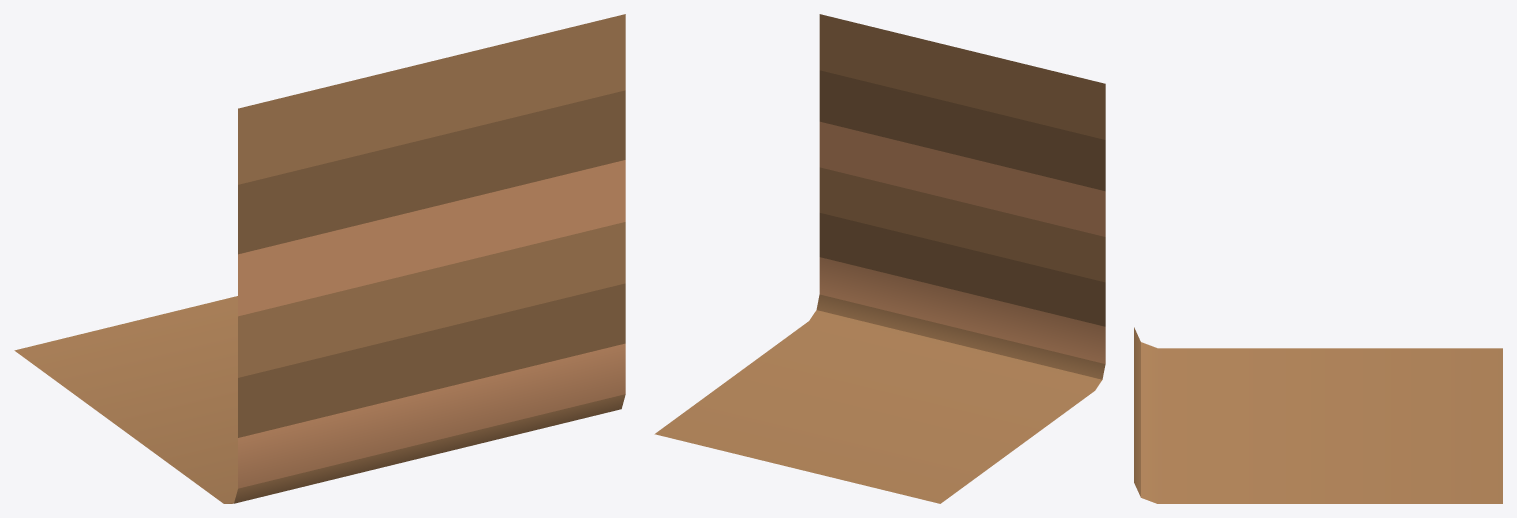
Rendered from Cube_Grass_SideBottom_Tall.gltf.
3 views of the same model, side by side, from view 1: azimuth 30°, elevation 25°; view 2: azimuth 150°, elevation 25°; view 3: azimuth 270°, elevation 25° (orthographic). The views are drawn at different scales.
Visible parts, largest first — view 1: Cube_Grass_SideBottom_Tall; view 2: Cube_Grass_SideBottom_Tall; view 3: Cube_Grass_SideBottom_Tall.
Part boxes in pixels (bbox=[...]): Cube_Grass_SideBottom_Tall: bbox=[14, 14, 625, 503]; Cube_Grass_SideBottom_Tall: bbox=[654, 14, 1105, 503]; Cube_Grass_SideBottom_Tall: bbox=[1134, 327, 1502, 503].
Size of the model in its own units: 2 by 2 by 2.
